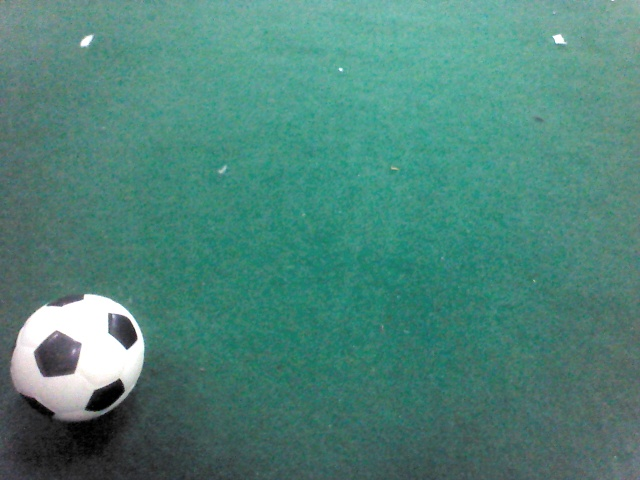ball: (7, 291, 146, 426)
